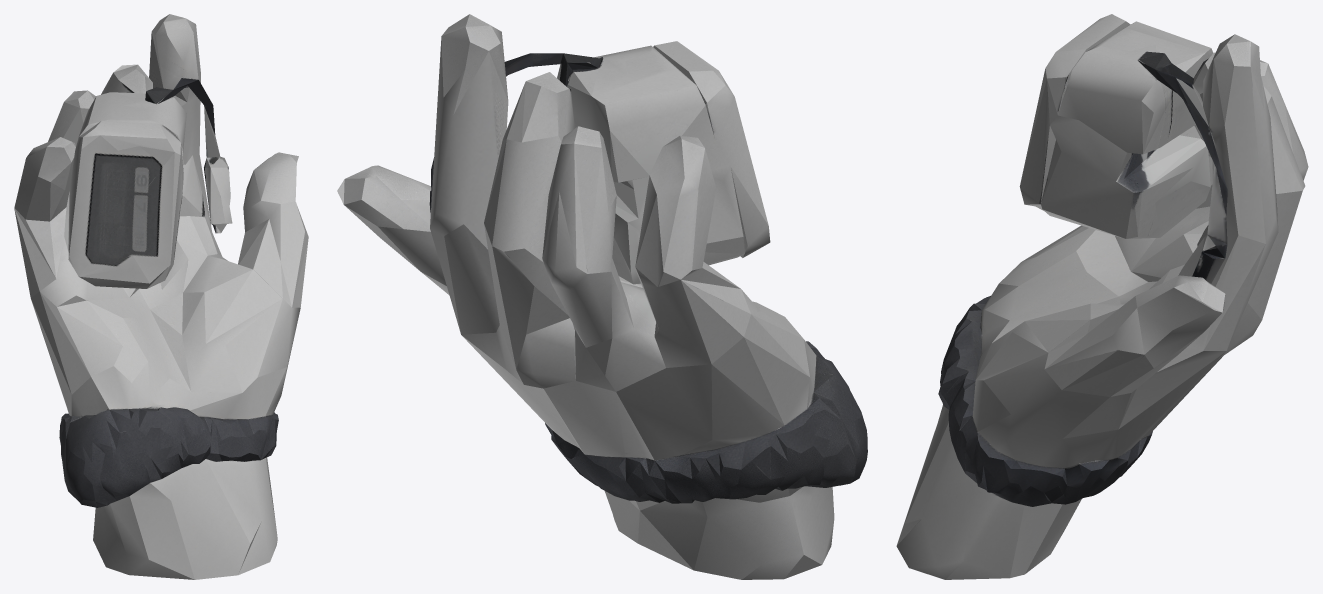
Rendered from Pulse_oximeter_clip_leak.glb.
3 renders of one model, left to right at view 1: azimuth 30°, elevation 25°; view 2: azimuth 150°, elevation 25°; view 3: azimuth 270°, elevation 25°, orthographic. The views are drawn at different scales.
Size of the model in its own units: 1.4 by 1.89 by 1.28.
1 material, 1 textured.
